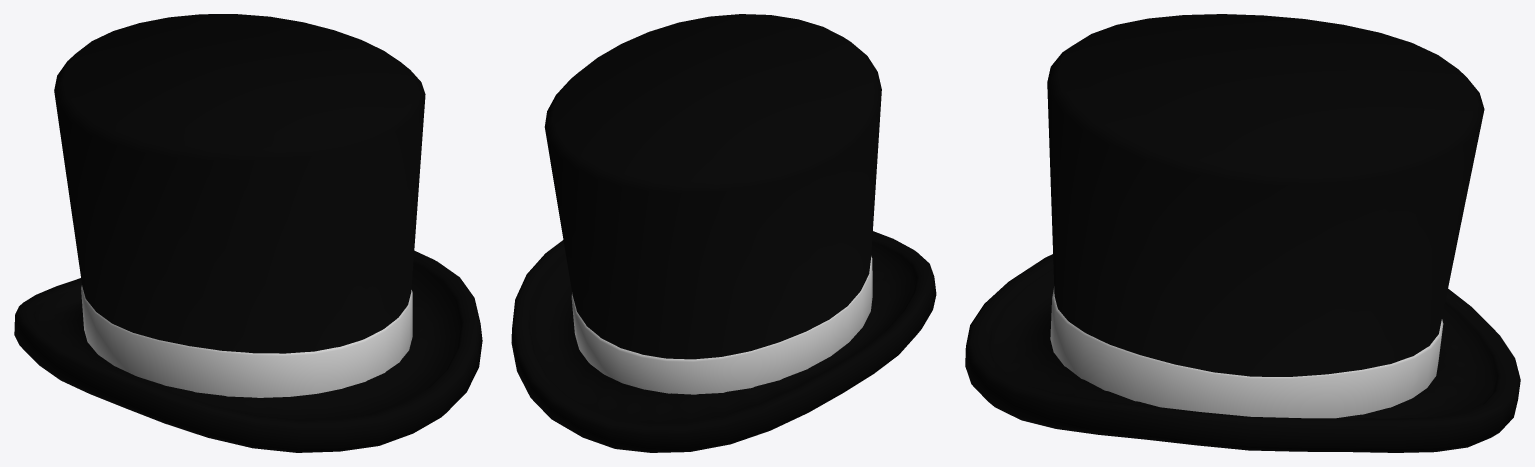
3 views of the same model, side by side, from view 1: azimuth 30°, elevation 25°; view 2: azimuth 150°, elevation 25°; view 3: azimuth 270°, elevation 25° (orthographic). The views are drawn at different scales.
Visible parts, largest first — view 1: hatCylinder; view 2: hatCylinder; view 3: hatCylinder.
Part boxes in pixels (<box>): hatCylinder: <box>14,14,482,452</box>; hatCylinder: <box>511,14,936,452</box>; hatCylinder: <box>965,14,1520,452</box>.
Size of the model in its own units: 0.5881 by 0.4539 by 0.6788.
Materials: 1 (1 with a texture image).
